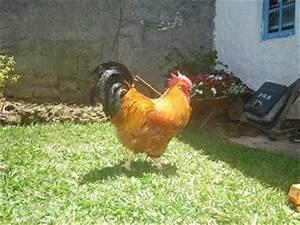hen: (89, 60, 194, 171)
